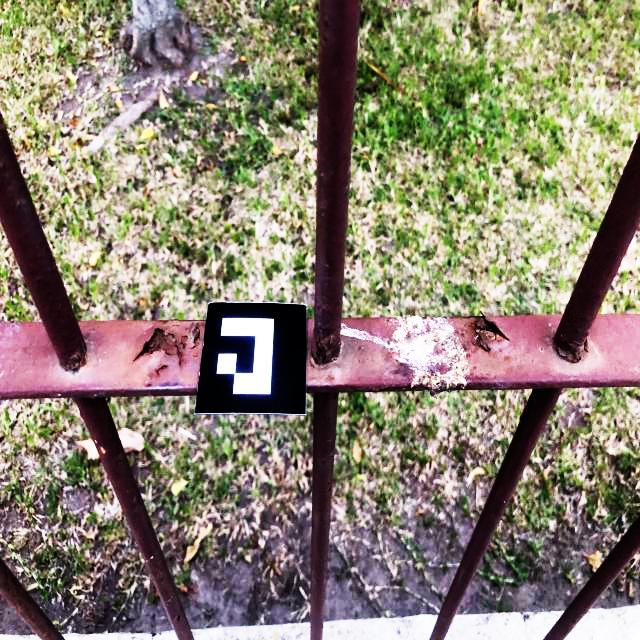Corrosion: (132, 319, 206, 388), (450, 311, 511, 353), (309, 322, 337, 370), (550, 334, 588, 364), (64, 347, 88, 374), (324, 371, 336, 385), (335, 393, 338, 400)
